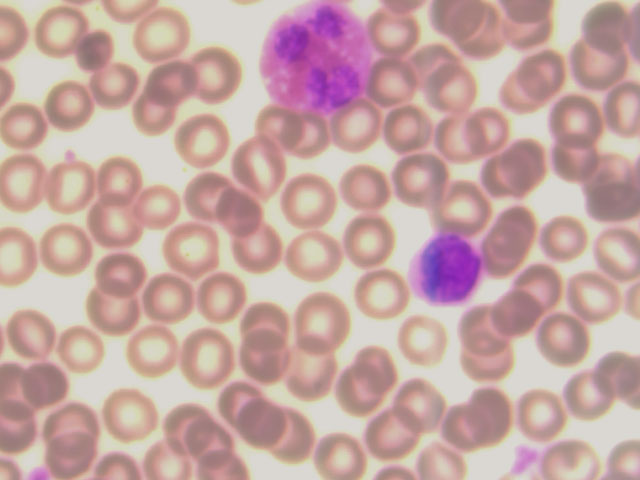RBC: (484, 206, 539, 268), (281, 172, 339, 229), (334, 158, 392, 215), (86, 281, 142, 340), (364, 403, 422, 459), (326, 365, 384, 421), (278, 341, 336, 397), (237, 328, 295, 384), (393, 375, 451, 431), (571, 30, 629, 86), (165, 220, 224, 275), (38, 222, 97, 277), (454, 299, 509, 357), (465, 385, 520, 443), (458, 337, 513, 395), (392, 310, 447, 368), (356, 262, 411, 320), (342, 214, 397, 272), (284, 227, 339, 285), (295, 292, 350, 350), (240, 296, 295, 354), (179, 328, 234, 386), (127, 324, 182, 382), (55, 320, 110, 378), (4, 306, 59, 364), (16, 352, 71, 410), (43, 403, 98, 461), (101, 388, 156, 446), (163, 400, 218, 458), (566, 264, 620, 322), (514, 255, 568, 313), (491, 283, 545, 341), (537, 312, 591, 370), (565, 368, 619, 426), (517, 384, 571, 442), (212, 381, 267, 435), (237, 403, 292, 457), (271, 412, 326, 466), (189, 45, 243, 99), (234, 137, 286, 191), (391, 152, 446, 202), (430, 182, 485, 232), (493, 138, 548, 188), (461, 111, 516, 161), (435, 108, 490, 158), (493, 70, 548, 120), (513, 44, 568, 94), (451, 11, 506, 61), (549, 92, 604, 142), (548, 136, 603, 186), (582, 172, 637, 222), (536, 214, 591, 264), (313, 432, 369, 479), (140, 273, 192, 323), (195, 271, 247, 321), (230, 224, 282, 274), (185, 170, 237, 220), (176, 116, 228, 166), (129, 86, 181, 136), (87, 61, 139, 111), (34, 5, 86, 55), (67, 25, 119, 75), (134, 8, 186, 58), (596, 82, 640, 141), (90, 251, 147, 296), (45, 80, 96, 130), (45, 163, 96, 212), (93, 155, 144, 204), (88, 198, 139, 247), (1, 226, 40, 290), (140, 435, 195, 480), (1, 104, 51, 153), (1, 156, 51, 205), (283, 115, 334, 162), (331, 103, 382, 150), (369, 58, 420, 105), (369, 7, 420, 54), (431, 66, 482, 113), (386, 107, 437, 154), (543, 438, 597, 480), (145, 62, 190, 107), (134, 183, 178, 228)
WBC: (254, 1, 373, 114), (409, 231, 484, 304)
